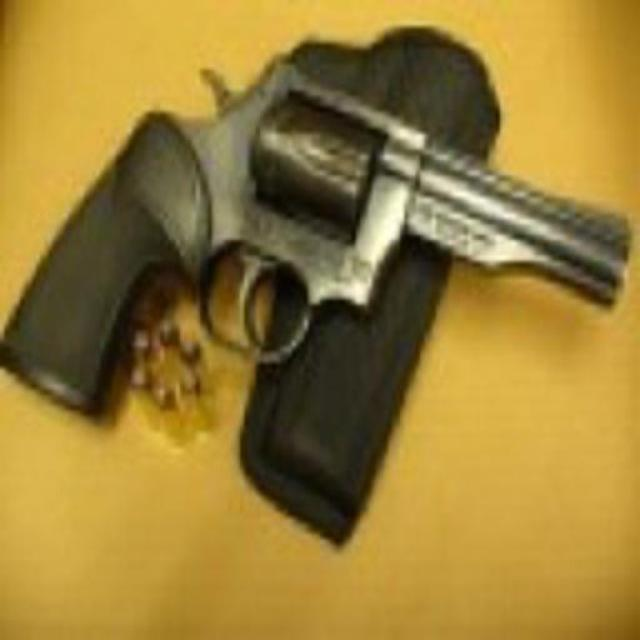pistol: (4, 42, 635, 415)
